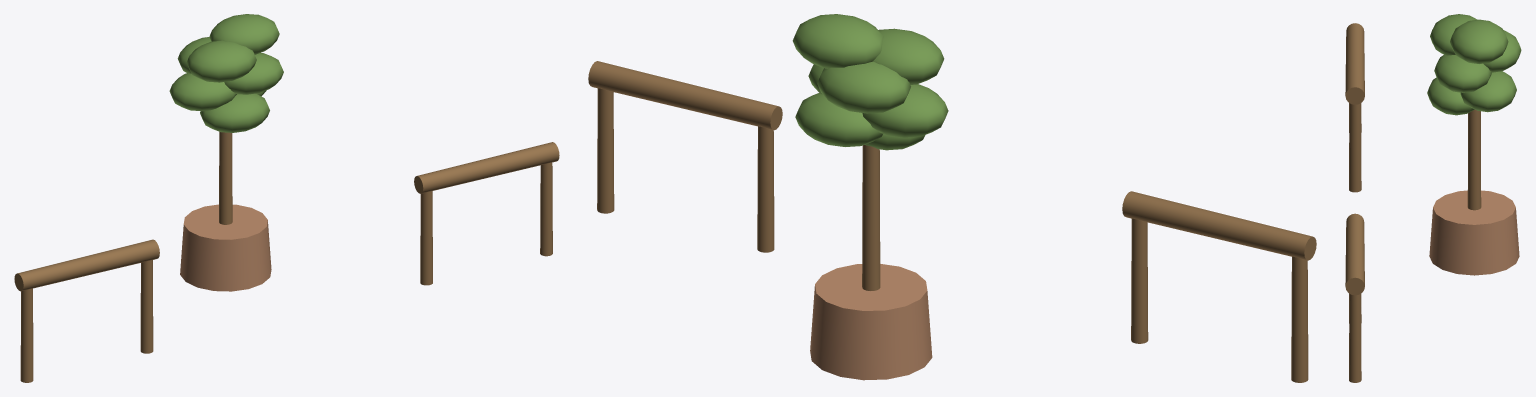
File: fixture-perch-v01.glb
The picture shows the model from 3 angles, left to right: view 1: azimuth 30°, elevation 25°; view 2: azimuth 150°, elevation 25°; view 3: azimuth 270°, elevation 25°; orthographic projection. The views are drawn at different scales.
Parts seen in each view (by area): view 1: merged-static (×2), post; view 2: merged-static (×2), post; view 3: merged-static (×2), post.
Boxes of the visible parts, x1,y1,x2,y2 form: merged-static (×2): (14,14,559,382); post: (180,204,271,291); merged-static (×2): (588,14,1316,382); post: (810,264,932,380); merged-static (×2): (1345,14,1521,382); post: (1429,190,1519,275).
Bounding box in the file's own units: 1.34 × 0.59 × 0.3906.
